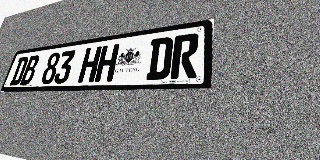3: (53, 50, 76, 84)
8: (40, 52, 62, 84)
B: (19, 55, 41, 85)
D: (146, 36, 174, 80), (9, 56, 29, 86)
H: (94, 44, 120, 82), (77, 46, 102, 83)
R: (170, 33, 200, 79)
